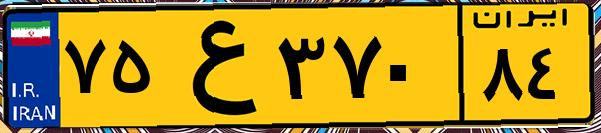0: (385, 28, 445, 110)
3: (270, 28, 330, 110)
4: (525, 38, 570, 115)
5: (110, 28, 158, 98)
7: (330, 28, 385, 110), (57, 26, 110, 100)
8: (475, 38, 525, 113)
ع: (158, 12, 270, 120)
